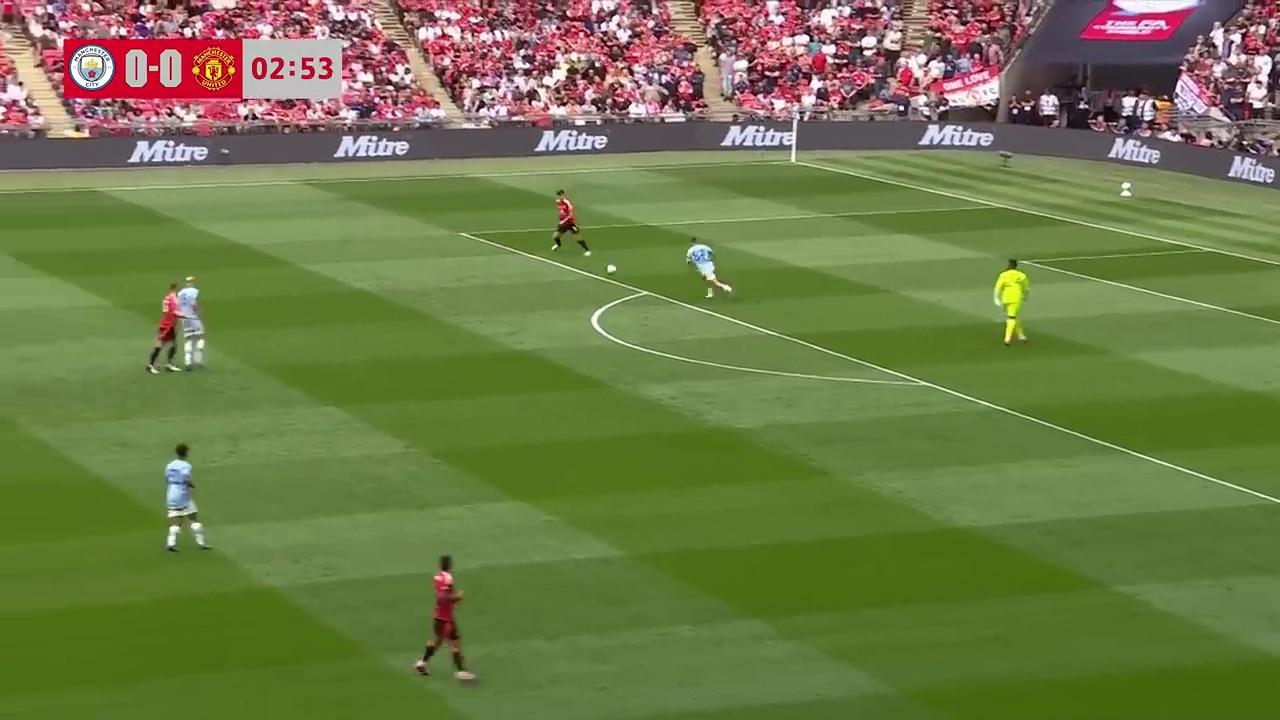ball: (604, 259, 617, 275)
player: (413, 553, 476, 681), (163, 443, 210, 553), (994, 256, 1029, 346), (146, 285, 181, 374), (994, 256, 1029, 345), (175, 276, 206, 371), (685, 237, 730, 299), (550, 191, 591, 255)
